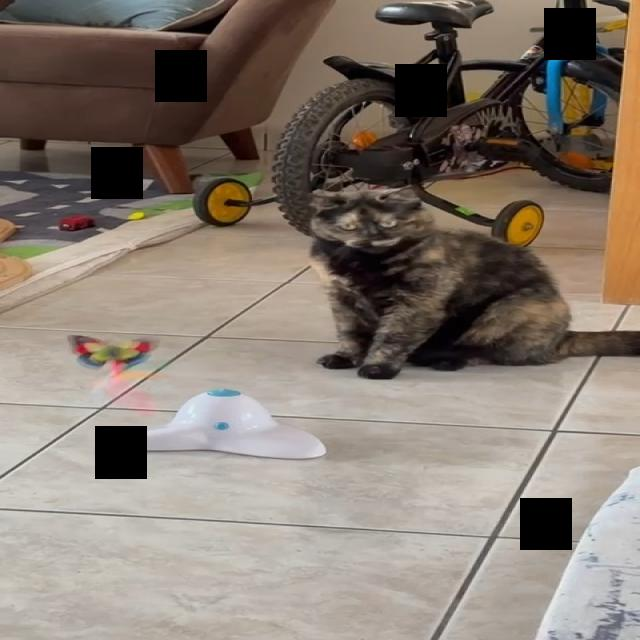authorized: (305, 184, 639, 380)
